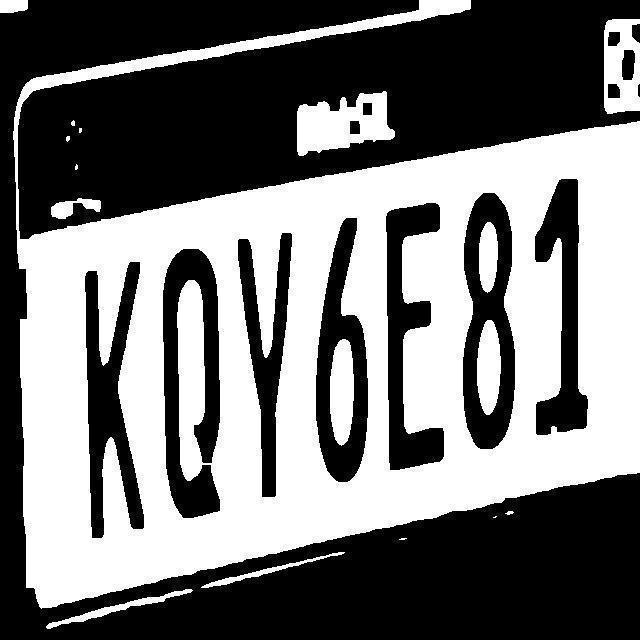1: (528, 165, 602, 448)
6: (312, 207, 378, 485)
8: (453, 180, 527, 464)
e: (378, 196, 450, 472)
k: (76, 246, 152, 543)
q: (160, 244, 233, 526)
y: (238, 219, 302, 516)
